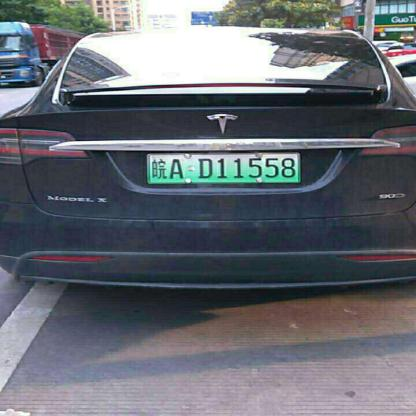lp: (150, 154, 298, 182)
